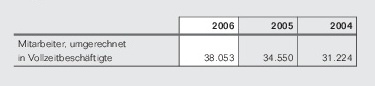table: (0, 0, 375, 86)
